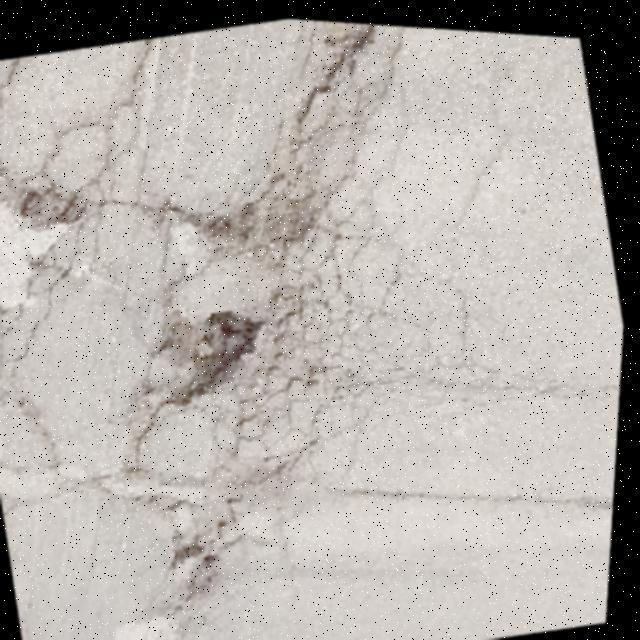pothole: (177, 144, 338, 282), (147, 287, 288, 418), (0, 142, 98, 248)
